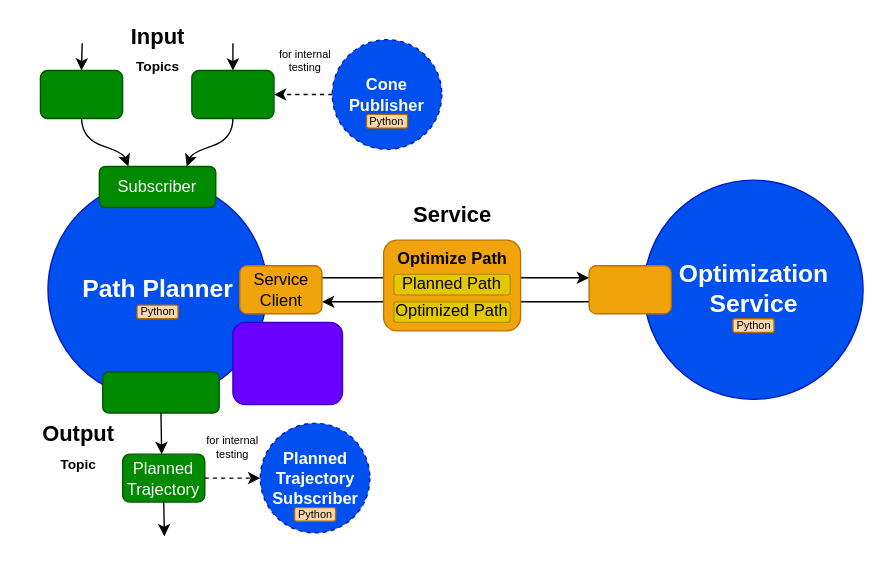
The diagram is 886 pixels wide and 571 high, and some of its shapes have lost their labels. The shapes that lost their labels are listed below. From the top down, each one's centre as x and y in pixels, then its label:
the point at 81,94: Current Position
the point at 232,94: Cone
the point at 629,289: Service Server
the point at 287,363: Parameters - TrackConfig - Mode
the point at 160,392: Publisher
